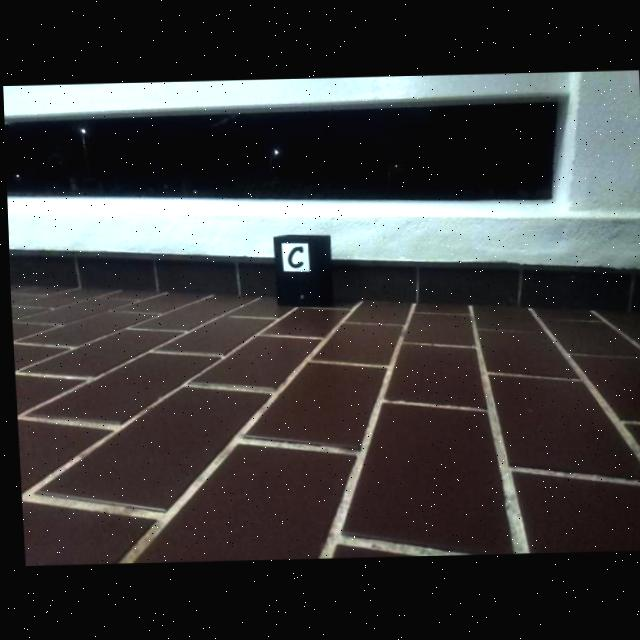C: (285, 247, 302, 269)
